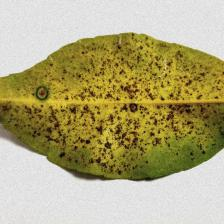canker: (31, 64, 189, 146)
